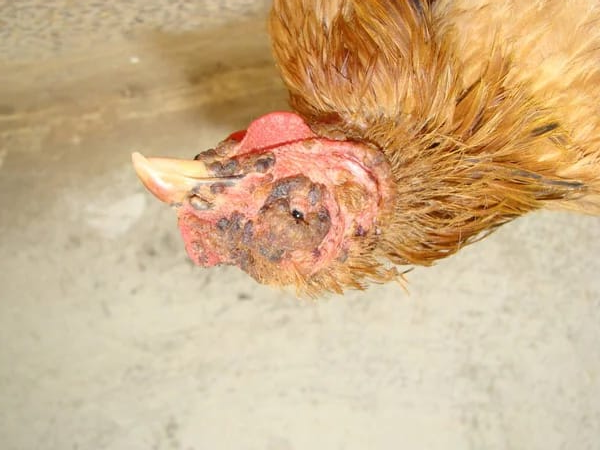Unhealthy: (120, 11, 590, 329)
